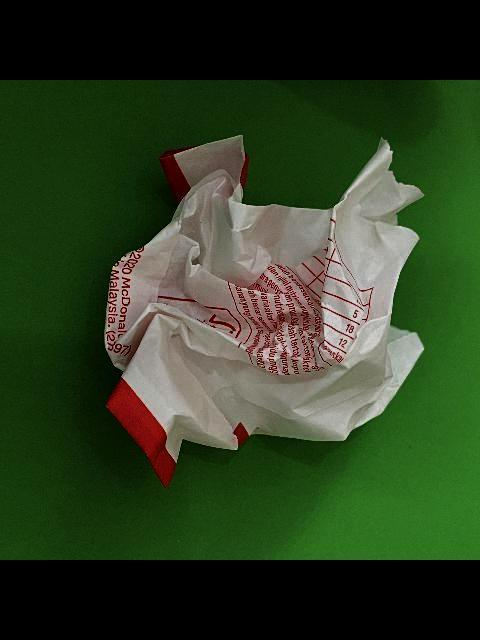paperbag: (103, 134, 426, 486)
